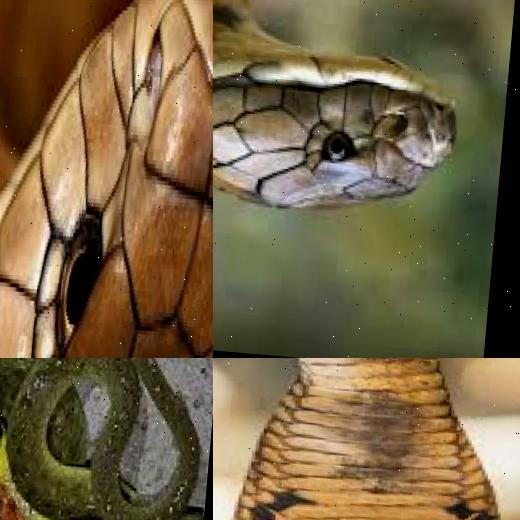snake: (0, 0, 213, 358), (213, 0, 484, 243), (213, 358, 520, 520), (0, 358, 213, 520)
